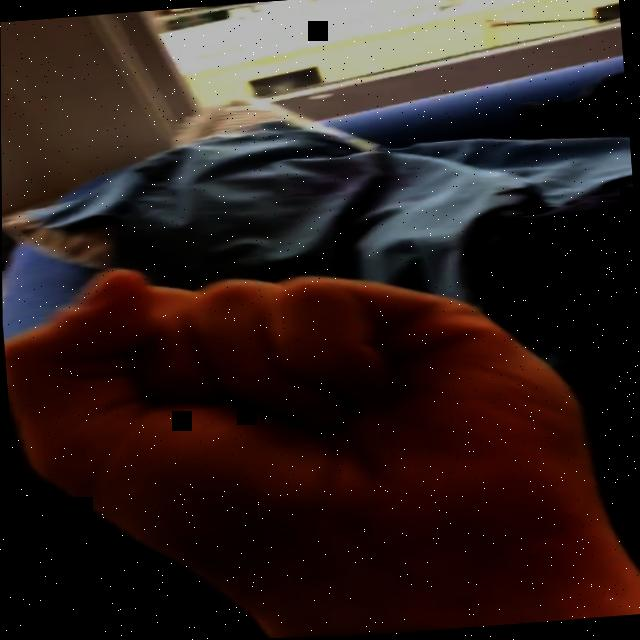Rock: (1, 226, 607, 604)
